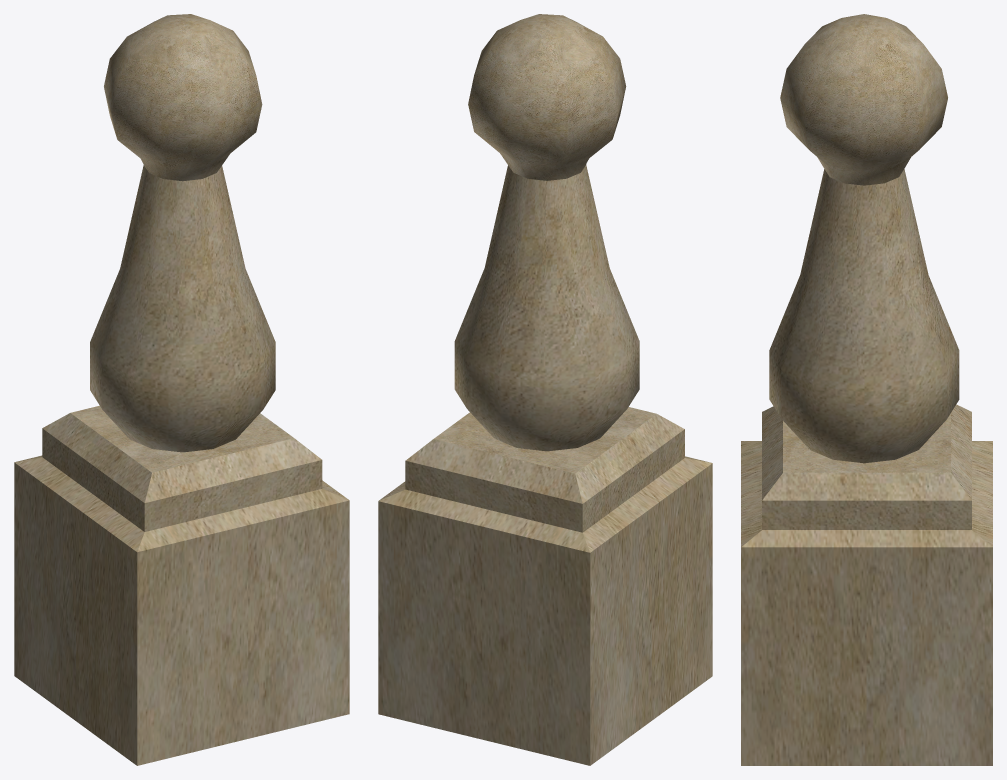
The model's file is thm_nboo_imprv_pillar_s08_l0.fbx.
3 renders of one model, left to right at view 1: azimuth 30°, elevation 25°; view 2: azimuth 150°, elevation 25°; view 3: azimuth 270°, elevation 25°, orthographic. The views are drawn at different scales.
Parts seen in each view (by area): view 1: mesh_node; view 2: mesh_node; view 3: mesh_node.
Boxes of the visible parts, box(x1,y1,x2,y2) form: mesh_node: box(14, 14, 349, 765); mesh_node: box(378, 14, 712, 765); mesh_node: box(741, 14, 992, 765).
Size of the model in its own units: 0.5982 by 1.81 by 0.5993.
